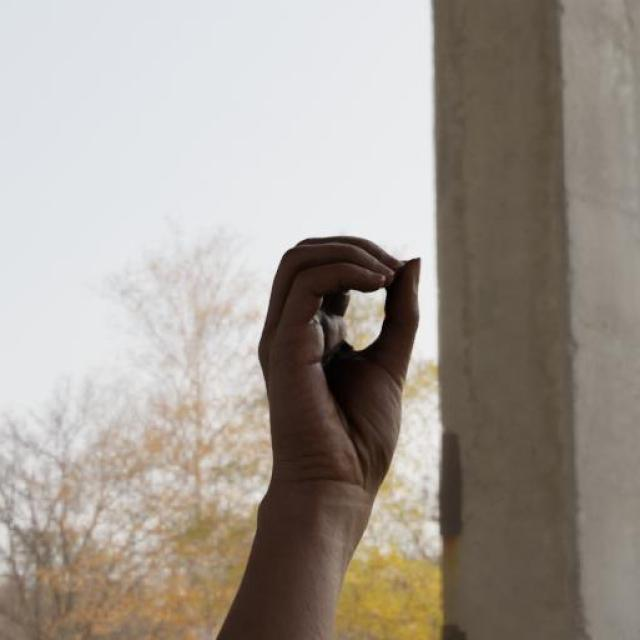O: (252, 230, 428, 484)
